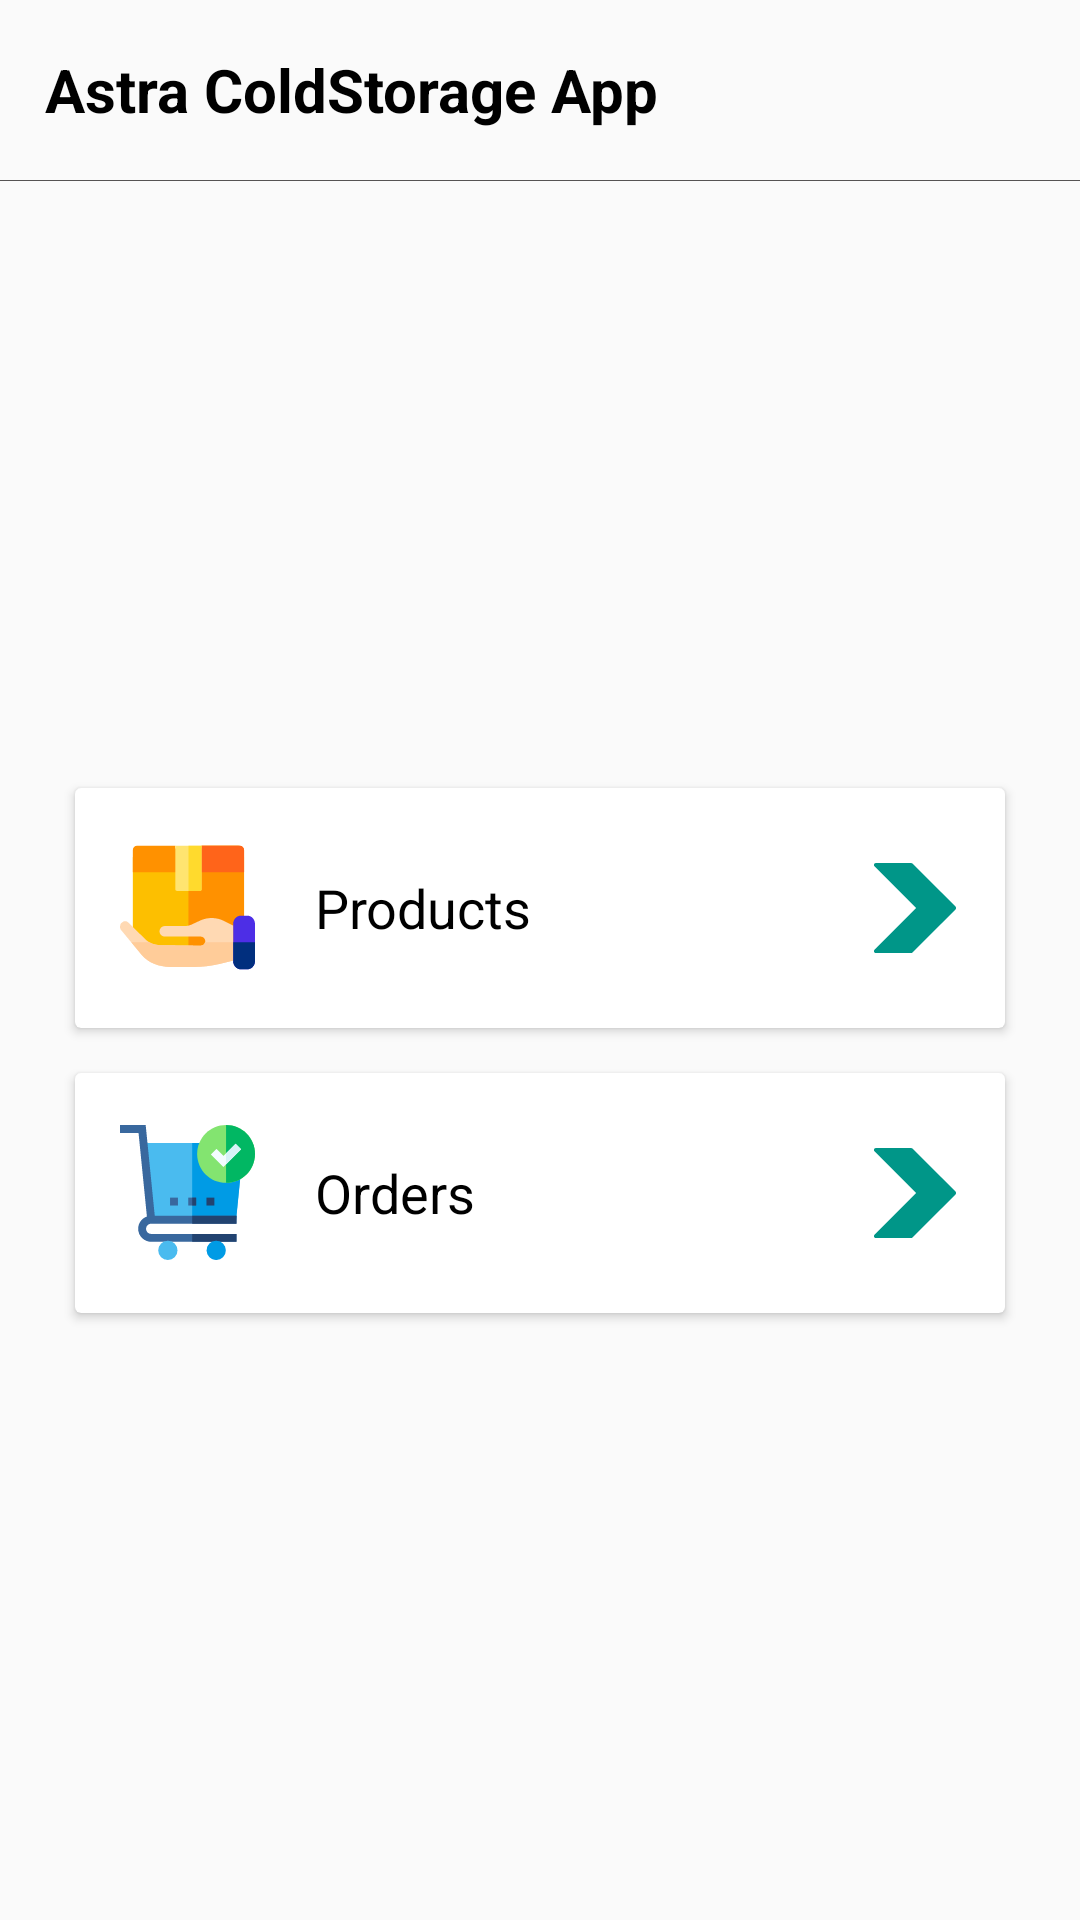

Icon bounding boxes for this 1080w x 1920h phone screenshot, format (x1, y1, x2, y2):
right arrow: (874, 863, 956, 953), (874, 1148, 956, 1238)
shipping: (120, 845, 255, 970)
